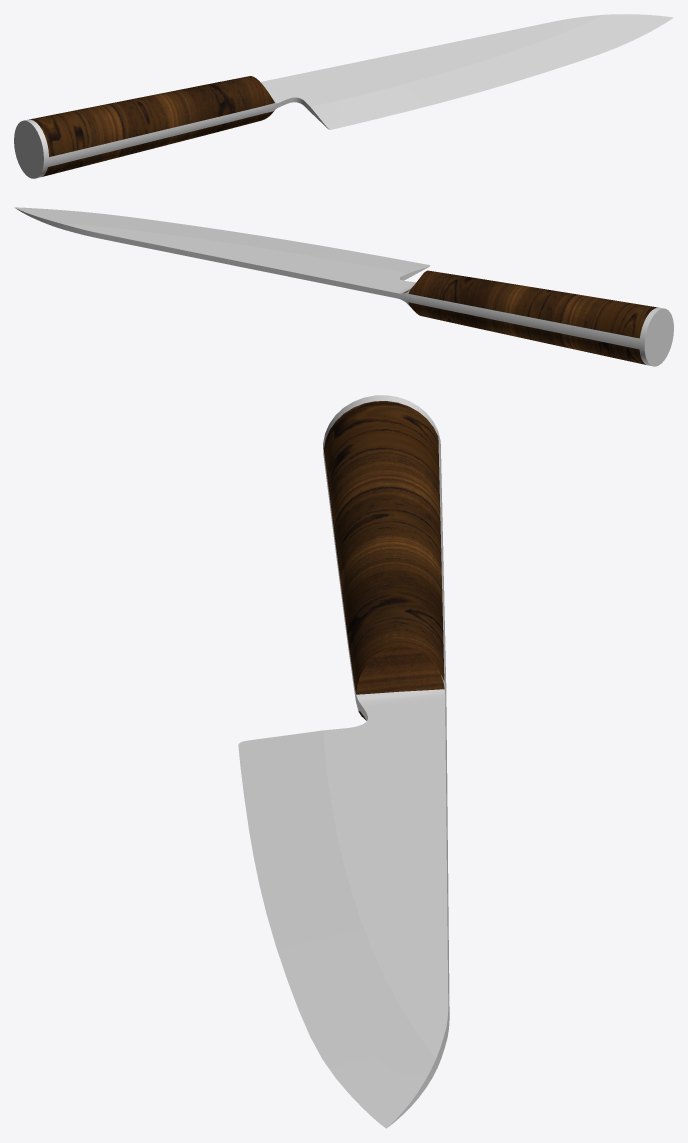
Rendered from kniv.fbx.
3 views of the same model, one above another, from view 1: azimuth 30°, elevation 25°; view 2: azimuth 150°, elevation 25°; view 3: azimuth 270°, elevation 25° (orthographic). The views are drawn at different scales.
Visible parts, largest first — view 1: Knife; view 2: Knife; view 3: Knife.
Part boxes in pixels (x1,y1,x2,y2): Knife: [14, 14, 673, 178]; Knife: [14, 207, 673, 366]; Knife: [238, 395, 449, 1128].
Bounding box in the file's own units: 33.73 × 2.79 × 4.78.
Materials: 2 (1 with a texture image).
